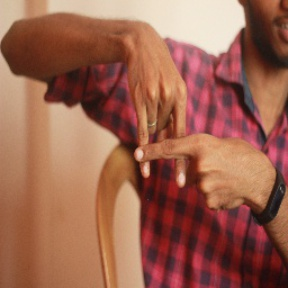H: (108, 82, 208, 197)
